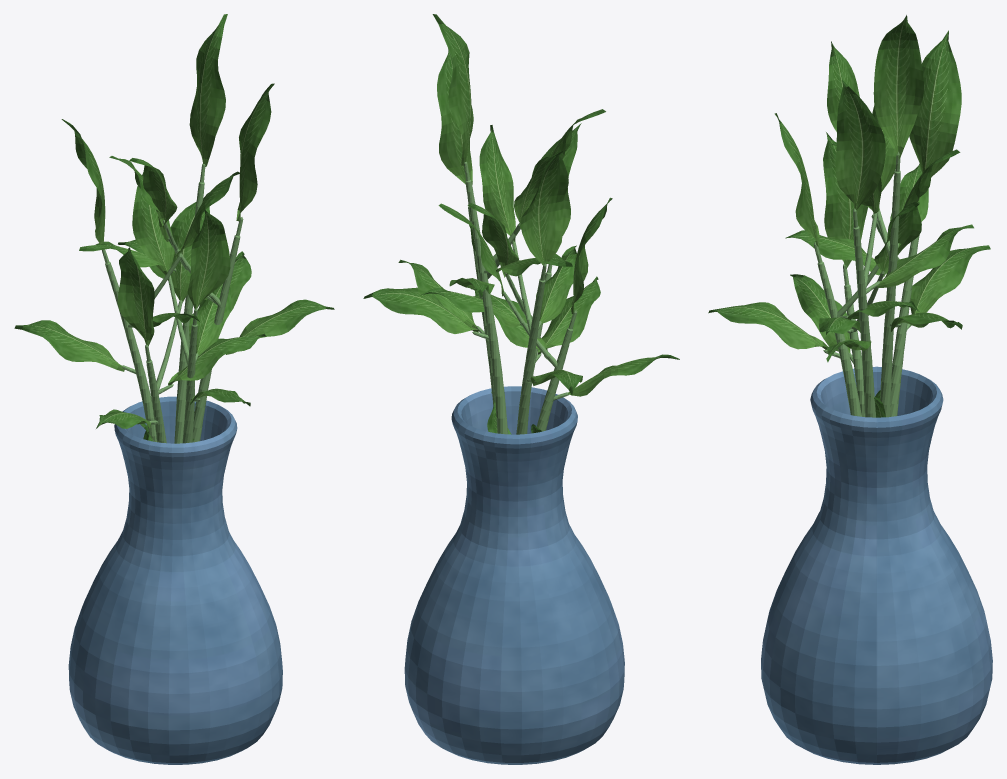
File: vase8.glb
3 views of the same model, side by side, from view 1: azimuth 30°, elevation 25°; view 2: azimuth 150°, elevation 25°; view 3: azimuth 270°, elevation 25° (orthographic). The views are drawn at different scales.
Parts seen in each view (by area): view 1: Vase, Leaf1, Leaf9, Leaf17, Leaf13, Leaf6, Leaf12, Leaf14, Leaf20, Leaf19, Stem2, Leaf11 (+10 smaller); view 2: Vase, Leaf5, Leaf8, Leaf1, Leaf2, Stem1, Leaf13, Leaf10, Leaf7, Stem2, Leaf12, Leaf17 (+10 smaller); view 3: Vase, Leaf1, Leaf5, Leaf13, Leaf17, Leaf6, Leaf10, Stem1, Stem4, Leaf15, Leaf18, Leaf9 (+12 smaller).
Boxes of the visible parts, box(x1,y1,x2,y2) form: Vase: box(68, 396, 282, 764); Leaf1: box(189, 14, 227, 166); Leaf9: box(187, 209, 230, 308); Leaf17: box(117, 247, 154, 346); Leaf13: box(236, 83, 274, 221); Leaf6: box(14, 320, 124, 371); Leaf12: box(132, 165, 174, 275); Leaf14: box(226, 299, 334, 354); Leaf20: box(167, 197, 209, 302); Leaf19: box(168, 333, 265, 385); Stem2: box(105, 262, 156, 441); Leaf11: box(189, 284, 231, 355); Vase: box(404, 386, 624, 764); Leaf5: box(520, 151, 568, 265); Leaf8: box(479, 125, 515, 241); Leaf1: box(432, 14, 473, 165); Leaf2: box(363, 287, 478, 333); Stem1: box(465, 180, 508, 434); Leaf13: box(437, 49, 472, 184); Leaf10: box(537, 276, 600, 354); Leaf7: box(536, 245, 576, 323); Stem2: box(517, 278, 545, 434); Leaf12: box(467, 203, 518, 277); Leaf17: box(571, 197, 612, 313); Vase: box(761, 366, 992, 764); Leaf1: box(873, 15, 923, 158); Leaf5: box(909, 30, 961, 176); Leaf13: box(835, 79, 885, 209); Leaf17: box(823, 132, 867, 268); Leaf6: box(910, 245, 990, 314); Leaf10: box(708, 302, 827, 349); Stem1: box(880, 170, 900, 417); Stem4: box(853, 226, 875, 417); Leaf15: box(877, 224, 973, 287); Leaf18: box(790, 274, 850, 352); Leaf9: box(774, 113, 819, 246).
Bounding box in the file's own units: 0.2163 × 0.558 × 0.1924.
4 materials, 3 textured.
